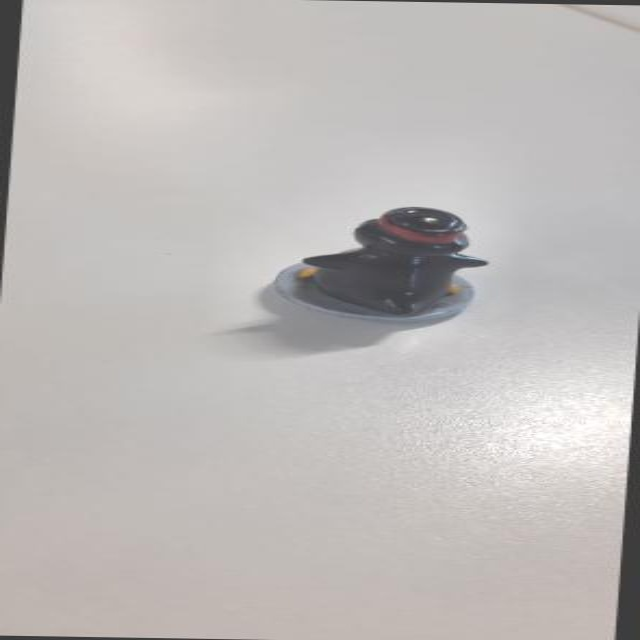Penguin: (267, 200, 492, 330)
